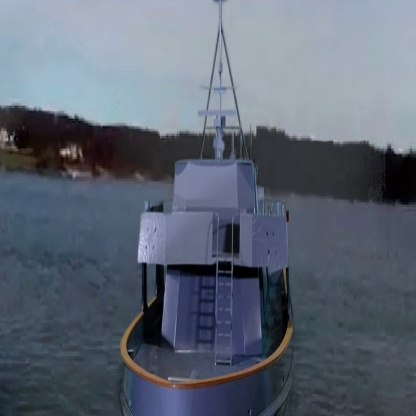YP689: (118, 0, 298, 416)
